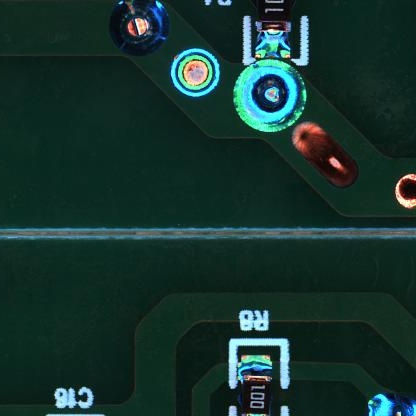spot: (233, 61, 307, 134), (110, 2, 171, 55), (171, 49, 220, 98), (369, 392, 416, 414)
